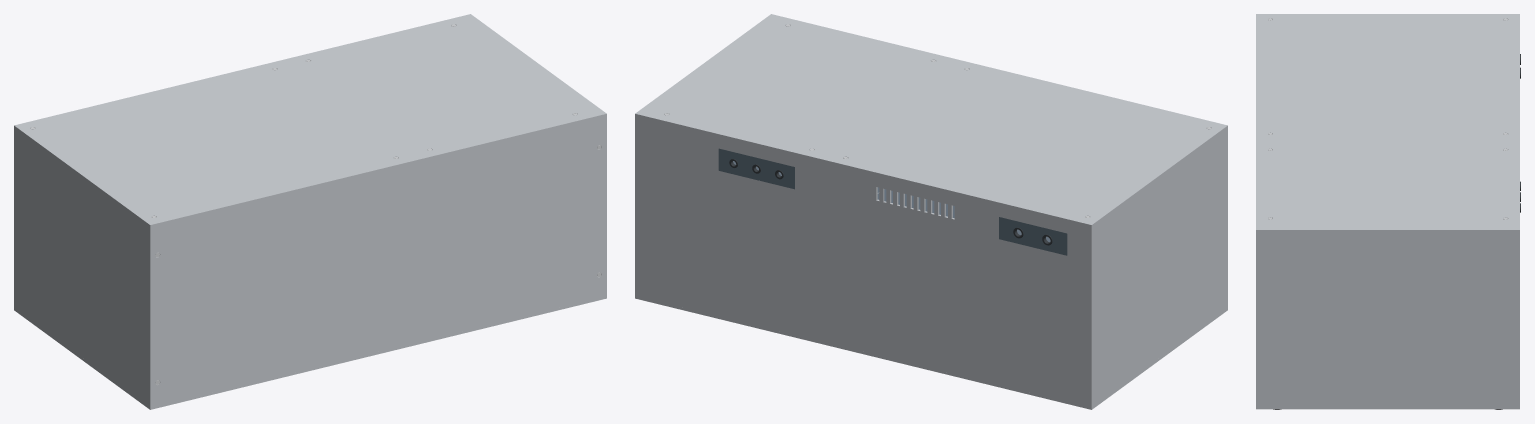
Rendered from reference.glb.
3 views of the same model, side by side, from view 1: azimuth 30°, elevation 25°; view 2: azimuth 150°, elevation 25°; view 3: azimuth 270°, elevation 25° (orthographic). The views are drawn at different scales.
Visible parts, largest first — view 1: FrontPanelCut, LidCut, LeftWallBlank, BaseBlank; view 2: RearPanelCut, LidCut, LeftWallBlank, BaseBlank, RearInsert_CompanionPowerDebug, RearInsert_ArtificialLoad; view 3: LidCut, RightWallBlank, BaseBlank, FrontPanelCut, RearPanelCut.
Boxes of the visible parts, x1,y1,x2,y2 form: FrontPanelCut: (149,116,606,407); LidCut: (14,14,606,227); LeftWallBlank: (15,129,148,406); BaseBlank: (14,296,606,409); RearPanelCut: (635,116,1092,407); LidCut: (635,14,1227,227); LeftWallBlank: (1093,129,1226,406); BaseBlank: (635,296,1227,409); RearInsert_CompanionPowerDebug: (718,148,794,189); RearInsert_ArtificialLoad: (999,217,1067,255); LidCut: (1256,14,1519,232); RightWallBlank: (1258,232,1517,406); BaseBlank: (1256,407,1519,409); FrontPanelCut: (1256,232,1258,406); RearPanelCut: (1517,232,1519,406).
Size of the model in its own units: 0.6 by 0.24 by 0.311.
